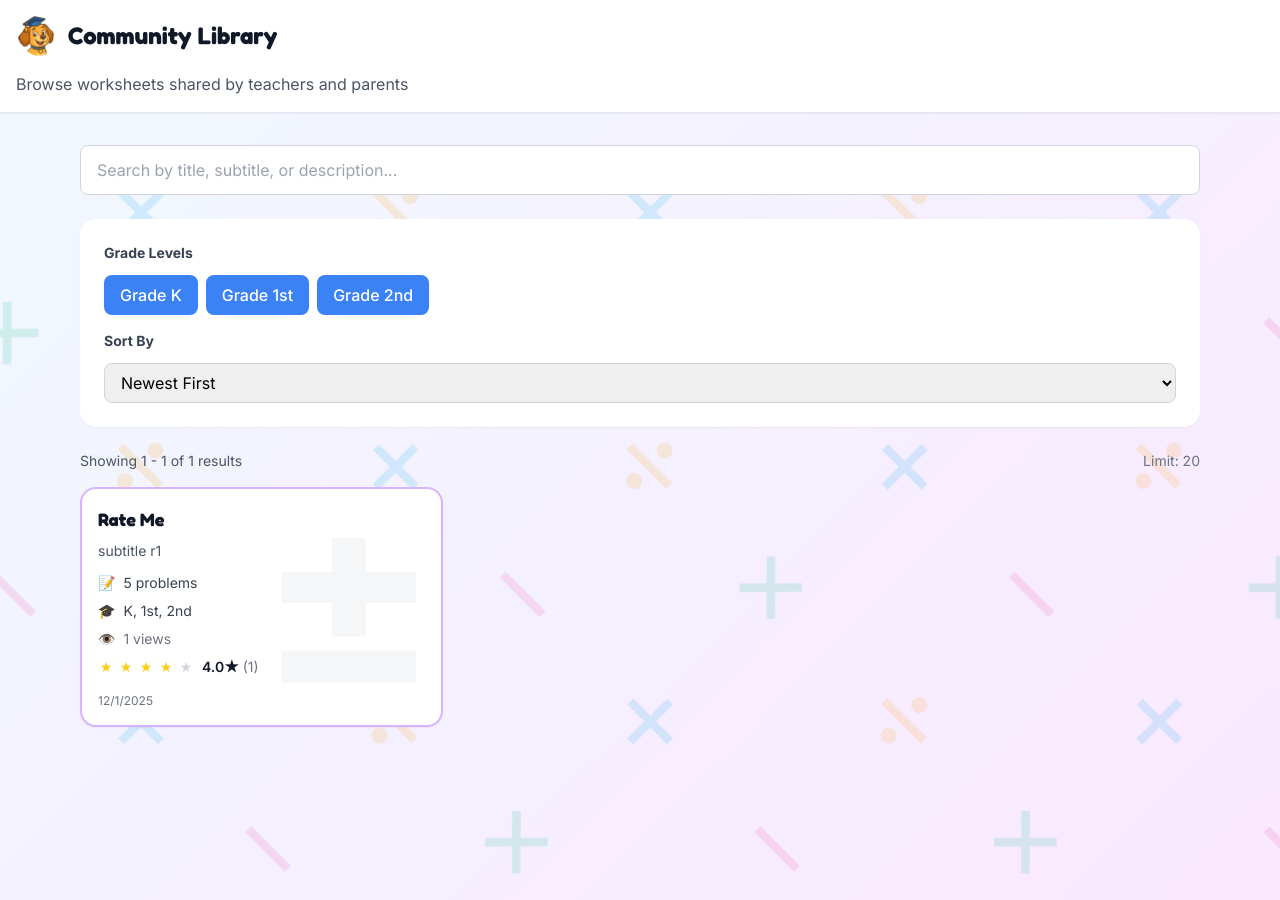
Test: SharedWorksheets UI › submits rating and updates UI on success
The image size is (1280, 900).
expect the heading "Rate Me" is shown: met, box [98, 508, 164, 530]
Click the button named "Rate 5 star".
click(186, 667)  # box [178, 657, 194, 677]
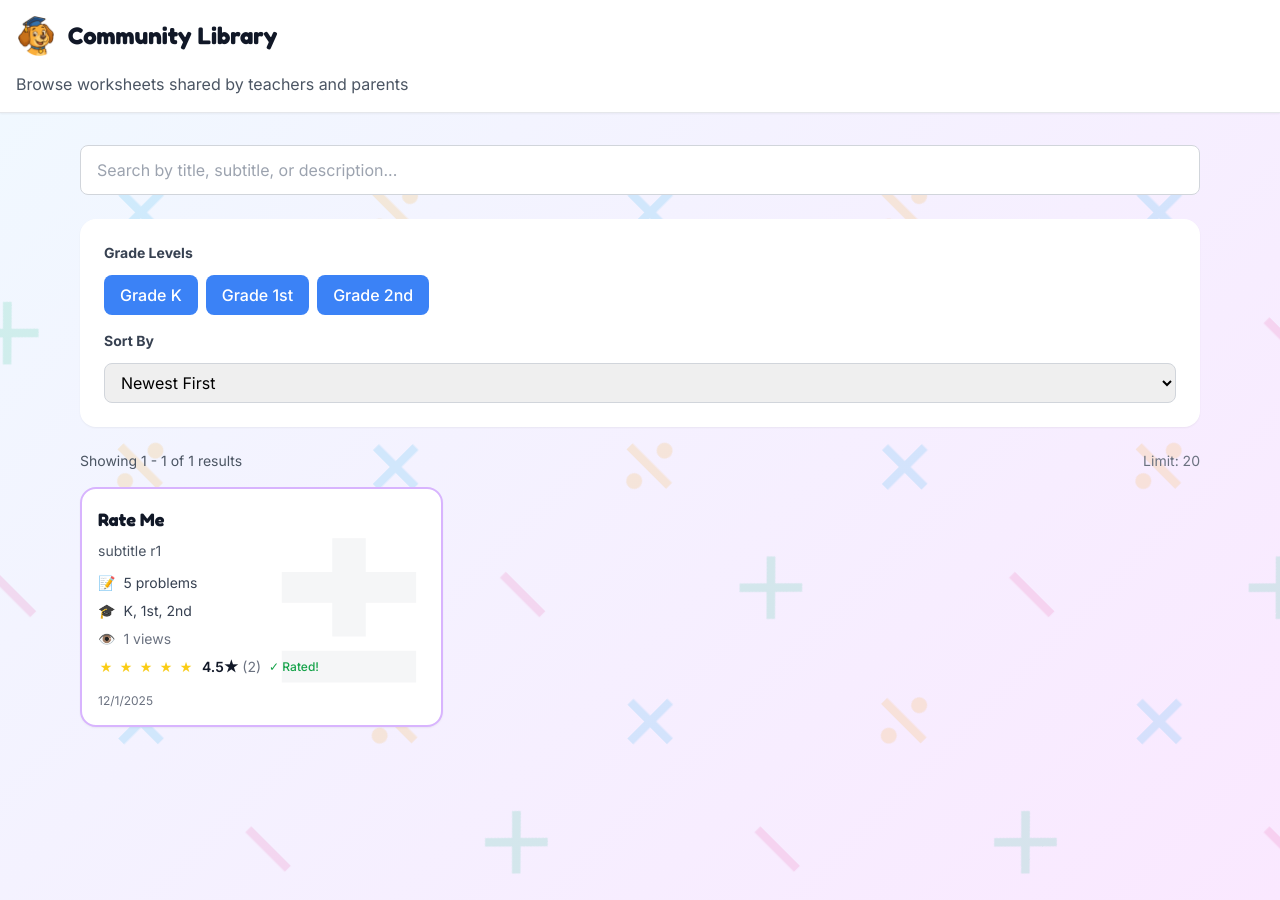
expect the text "4.5★" is shown: met, box [202, 658, 238, 675]
expect the text "(2)" is shown: met, box [242, 658, 261, 675]
